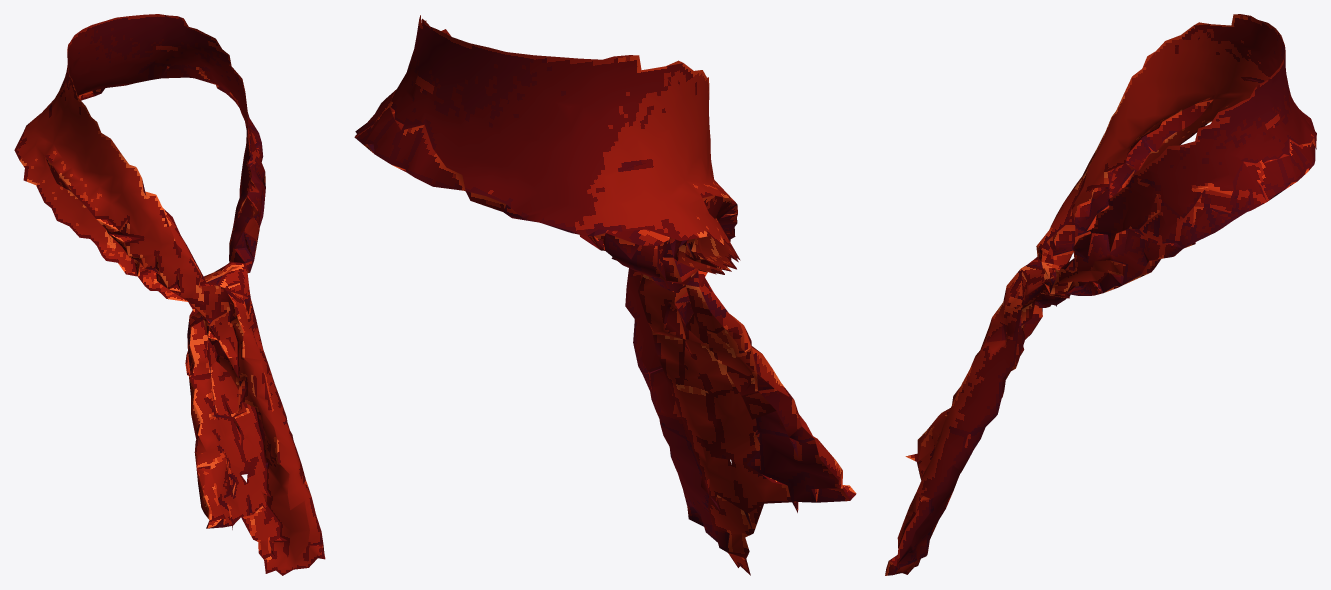
File: wear_neckerchief.glb
The picture shows the model from 3 angles, left to right: view 1: azimuth 30°, elevation 25°; view 2: azimuth 150°, elevation 25°; view 3: azimuth 270°, elevation 25°; orthographic projection. The views are drawn at different scales.
Visible parts, largest first — view 1: mesh; view 2: mesh; view 3: mesh.
Boxes of the visible parts, <box> form: mesh: <box>14,14,325,575</box>; mesh: <box>354,15,856,575</box>; mesh: <box>885,14,1316,575</box>.
Bounding box in the file's own units: 0.1583 × 0.3 × 0.2253.
Materials: 1 (1 with a texture image).
